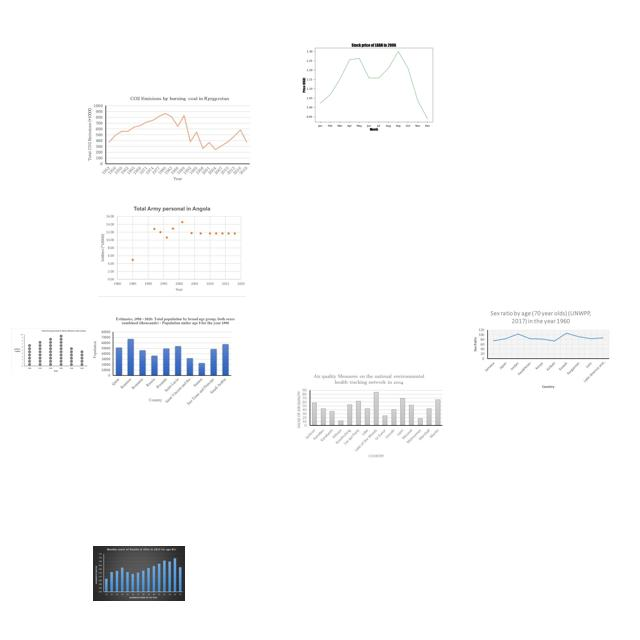Graph: (296, 32, 448, 137), (85, 93, 252, 183), (98, 204, 246, 297), (293, 371, 446, 459), (92, 316, 237, 407), (471, 308, 611, 391), (93, 546, 185, 601), (11, 328, 89, 374)
